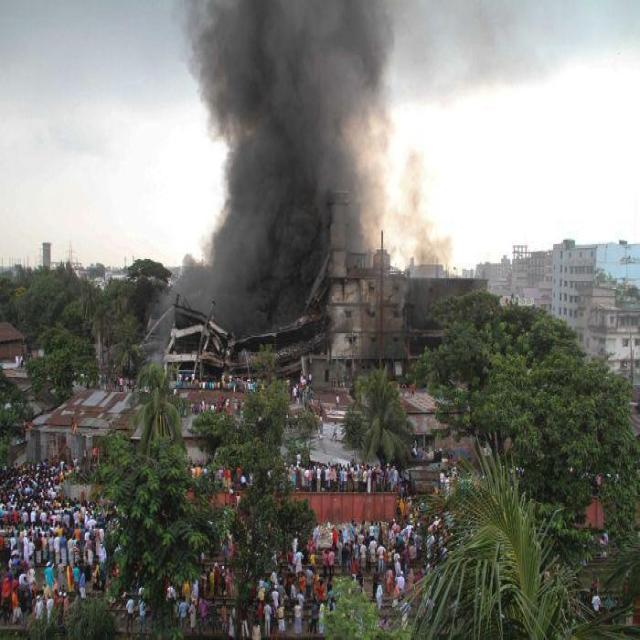Smoke: (140, 1, 456, 373)
